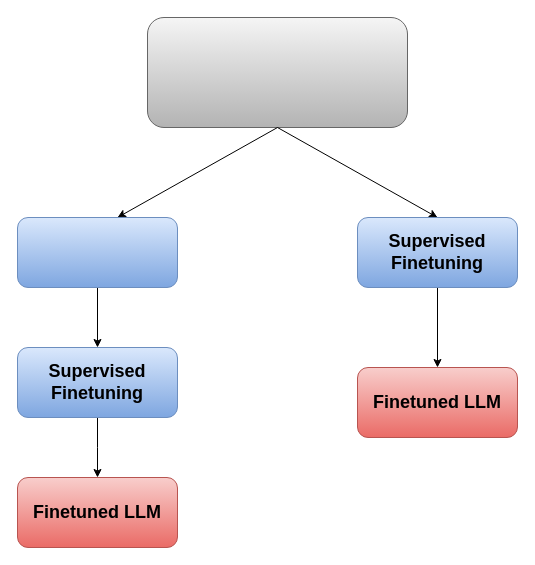
Some shapes in this 535 by 565 pixel diagram are drawn without their labels. Each missing label, with the box of its shape:
Base Model Llama 2 (7B, 13B), Mistral (7B), Llama 3 (8B): (146, 16, 408, 128)
Pre-training on Romanian raw text corpus: (16, 216, 178, 288)
